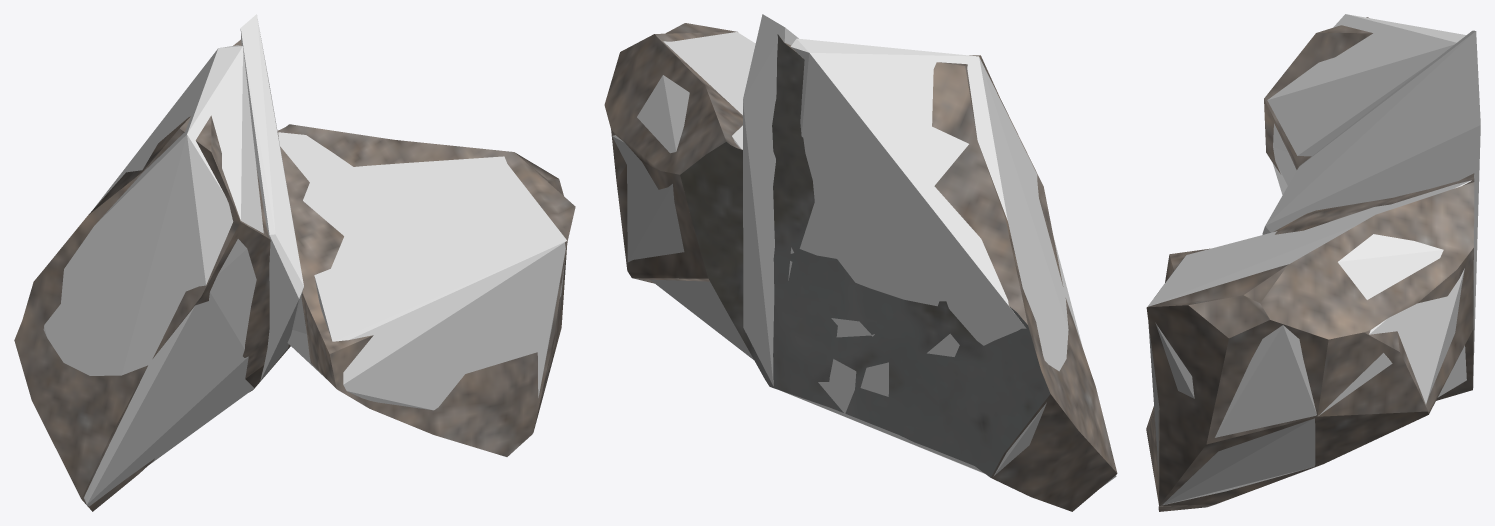
Rendered from SM_Rock_02.fbx.
3 renders of one model, left to right at view 1: azimuth 30°, elevation 25°; view 2: azimuth 150°, elevation 25°; view 3: azimuth 270°, elevation 25°, orthographic. The views are drawn at different scales.
Parts seen in each view (by area): view 1: SM_Rock_02_ConvexHulls, SM_Rock_02_LOD0; view 2: SM_Rock_02_LOD0, SM_Rock_02_ConvexHulls; view 3: SM_Rock_02_ConvexHulls, SM_Rock_02_LOD0.
Part boxes in pixels (x1,y1,x2,y2): SM_Rock_02_ConvexHulls: (43, 14, 566, 506); SM_Rock_02_LOD0: (14, 39, 575, 511); SM_Rock_02_LOD0: (604, 23, 1117, 511); SM_Rock_02_ConvexHulls: (612, 14, 1116, 487); SM_Rock_02_ConvexHulls: (1147, 14, 1480, 505); SM_Rock_02_LOD0: (1146, 17, 1474, 511).
Size of the model in its own units: 55.4 by 30.73 by 47.19.
